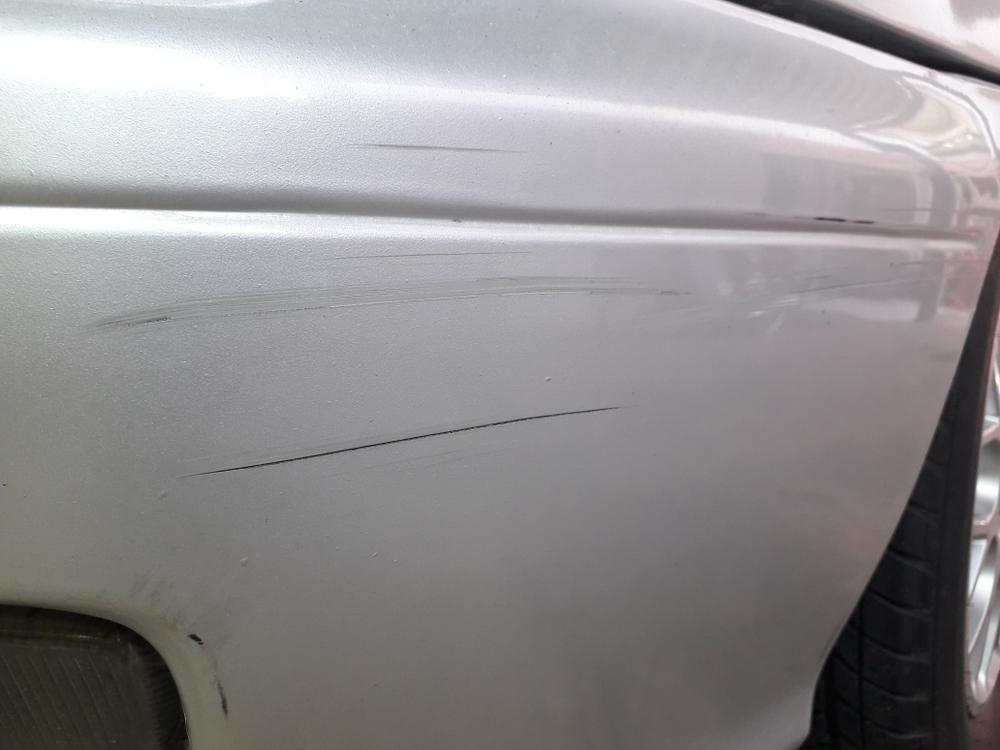scratch: (88, 273, 705, 343), (176, 404, 627, 486), (175, 620, 234, 731), (355, 140, 520, 158)
